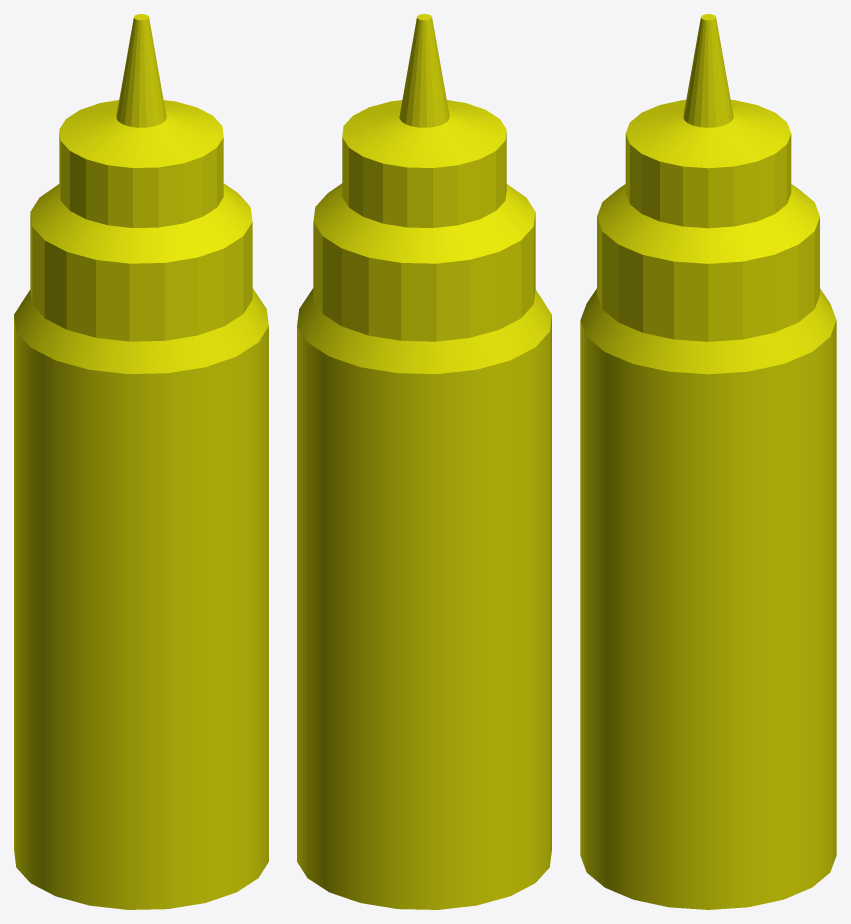
Rendered from mustardBottle.fbx.
3 renders of one model, left to right at view 1: azimuth 30°, elevation 25°; view 2: azimuth 150°, elevation 25°; view 3: azimuth 270°, elevation 25°, orthographic.
Parts seen in each view (by area): view 1: mustardBottle01; view 2: mustardBottle01; view 3: mustardBottle01.
Part boxes in pixels (x1,y1,x2,y2): mustardBottle01: (14,14,268,909); mustardBottle01: (297,14,551,909); mustardBottle01: (580,14,836,909).
Size of the model in its own units: 13 by 46.97 by 13.
